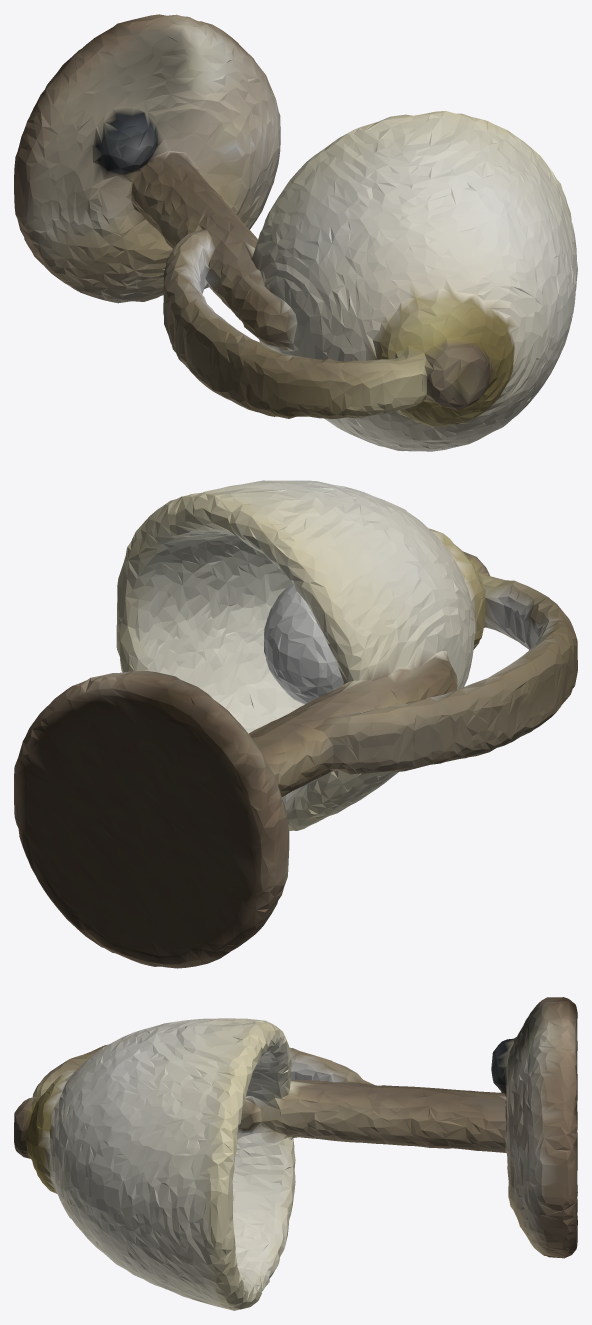
The model's file is desk_lamp_1.glb.
3 renders of one model, top to bottom at view 1: azimuth 30°, elevation 25°; view 2: azimuth 150°, elevation 25°; view 3: azimuth 270°, elevation 25°, orthographic. The views are drawn at different scales.
Parts seen in each view (by area): view 1: geometry_0; view 2: geometry_0; view 3: geometry_0.
Part boxes in pixels (x1,y1,x2,y2): geometry_0: (14,14,577,451); geometry_0: (14,480,577,968); geometry_0: (14,997,577,1310).
Size of the model in its own units: 0.6925 by 0.5166 by 1.
